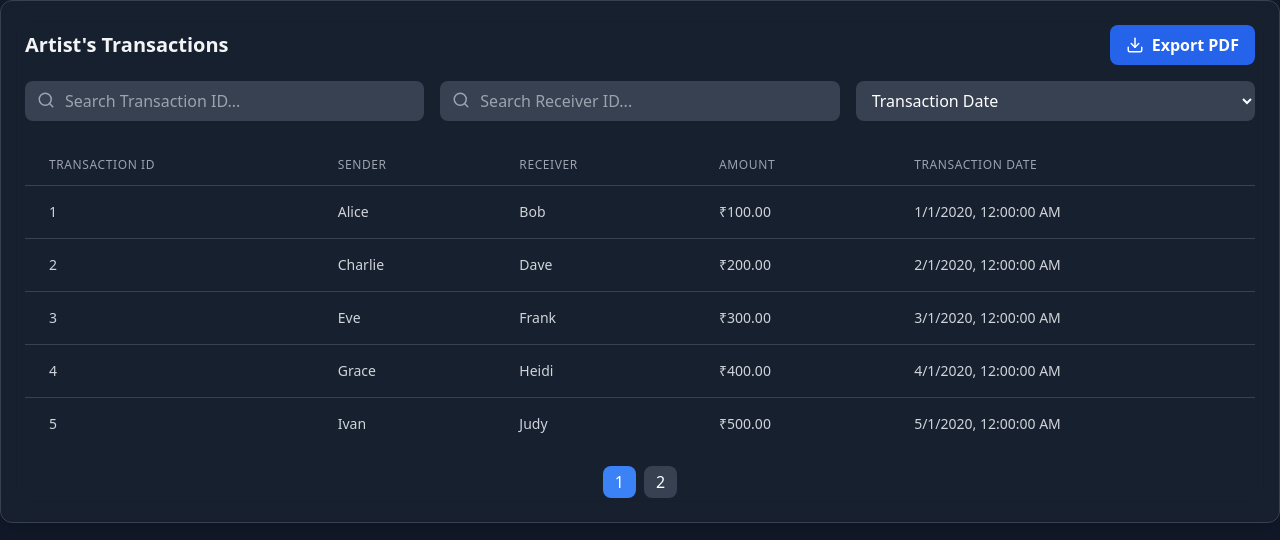
ArtistsTrans Component › filters transactions based on receiver ID search input
Expected: the heading "Artist's Transactions" is shown, [25, 31, 229, 59]
Note: Type into the receiver ID search input.
Type "Bob" into the field with placeholder "Search Receiver ID..." at (640, 101), box [440, 81, 840, 121]
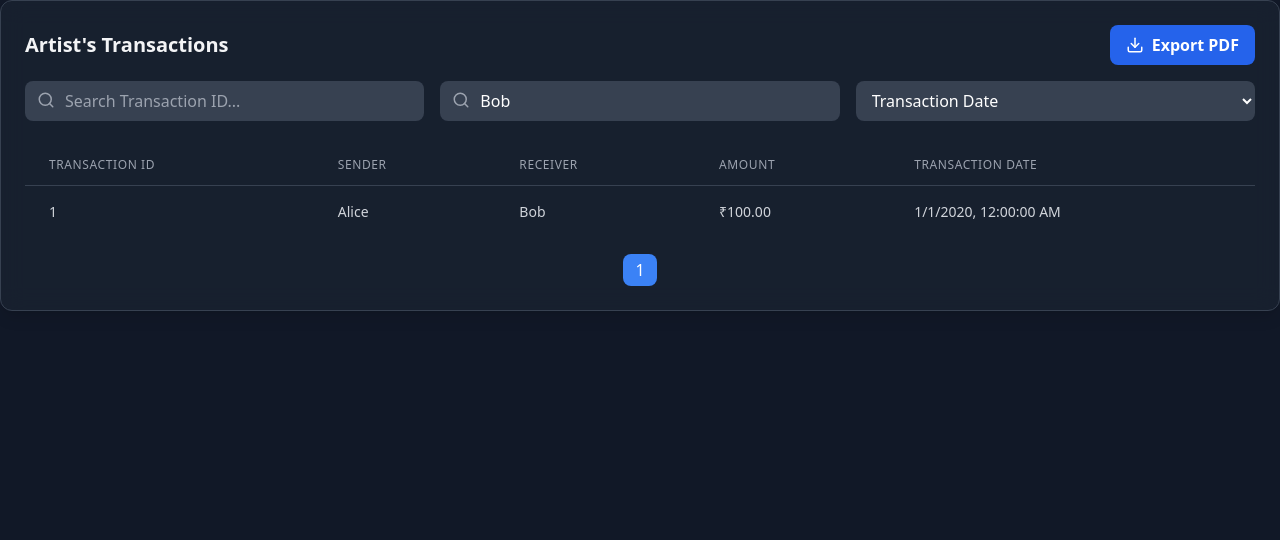
Expected: the text "Bob" is shown, [495, 186, 695, 238]
Expected: the text "Dave" is gone
